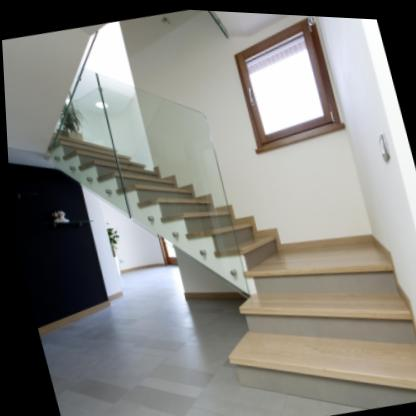Window: (232, 13, 340, 147)
